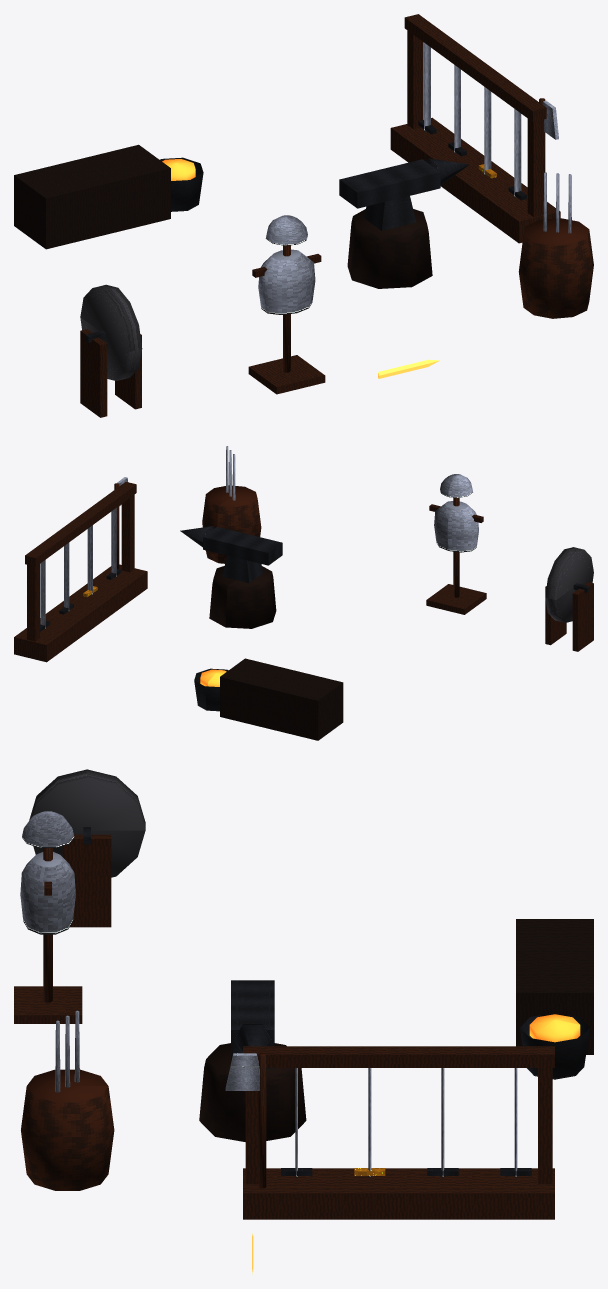
File: schmiede_deko.glb
3 renders of one model, top to bottom at view 1: azimuth 30°, elevation 25°; view 2: azimuth 150°, elevation 25°; view 3: azimuth 270°, elevation 25°, orthographic. The views are drawn at different scales.
Parts seen in each view (by area): view 1: trough, barrelB, rackBase, stump, grindWheel, rackTop, anvilTop, standPlate, grindLeg-1, standFoot, rackPost1, rackPost-1 (+11 smaller); view 2: trough, rackBase, stump, barrelB, grindWheel, rackTop, anvilTop, standPlate, grindLeg-1, standFoot, rackPost1, rackPost-1 (+6 smaller); view 3: rackBase, barrelB, trough, rackTop, grindWheel, stump, standPlate, grindLeg1, standFoot, anvilTop, coalBucket, rackPost-1 (+7 smaller).
Part boxes in pixels (bbox=[...]): trough: bbox=[14, 144, 170, 249]; barrelB: bbox=[518, 218, 593, 318]; rackBase: bbox=[390, 117, 560, 243]; stump: bbox=[347, 209, 432, 288]; grindWheel: bbox=[80, 284, 142, 380]; rackTop: bbox=[404, 14, 546, 121]; anvilTop: bbox=[339, 159, 440, 208]; standPlate: bbox=[258, 249, 315, 314]; grindLeg-1: bbox=[80, 329, 107, 417]; standFoot: bbox=[248, 355, 325, 394]; rackPost1: bbox=[527, 118, 543, 216]; rackPost-1: bbox=[407, 30, 423, 128]; trough: bbox=[220, 658, 343, 740]; rackBase: bbox=[14, 564, 147, 662]; stump: bbox=[209, 566, 276, 628]; barrelB: bbox=[202, 485, 261, 563]; grindWheel: bbox=[545, 547, 593, 622]; rackTop: bbox=[25, 482, 136, 566]; anvilTop: bbox=[203, 526, 282, 565]; standPlate: bbox=[434, 501, 478, 552]; grindLeg-1: bbox=[572, 582, 593, 651]; standFoot: bbox=[426, 584, 486, 614]; rackPost1: bbox=[121, 495, 134, 572]; rackPost-1: bbox=[27, 564, 39, 641]; rackBase: bbox=[243, 1168, 554, 1219]; barrelB: bbox=[21, 1069, 114, 1190]; trough: bbox=[516, 919, 593, 1054]; rackTop: bbox=[243, 1046, 554, 1067]; grindWheel: bbox=[29, 769, 145, 877]; stump: bbox=[199, 1043, 306, 1141]; standPlate: bbox=[20, 852, 75, 934]; grindLeg1: bbox=[62, 834, 111, 927]; standFoot: bbox=[14, 986, 82, 1023]; anvilTop: bbox=[231, 980, 274, 1049]; coalBucket: bbox=[520, 1015, 589, 1079]; rackPost-1: bbox=[538, 1068, 552, 1183].
Bounding box in the file's own units: 7.75 × 3.67 × 5.95.
Materials: 9 (6 with a texture image).
